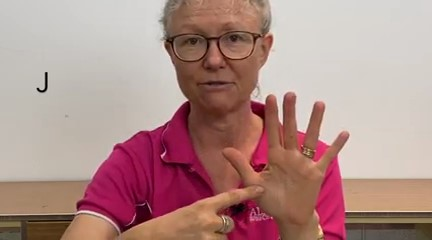J: (165, 85, 365, 240)
